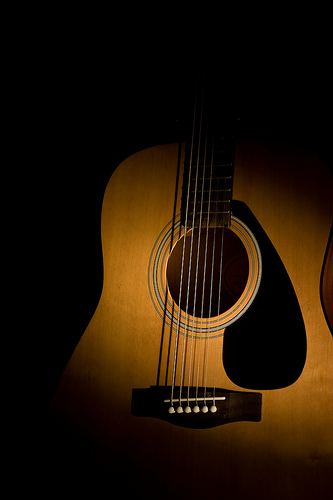guitar: (66, 1, 333, 500)
